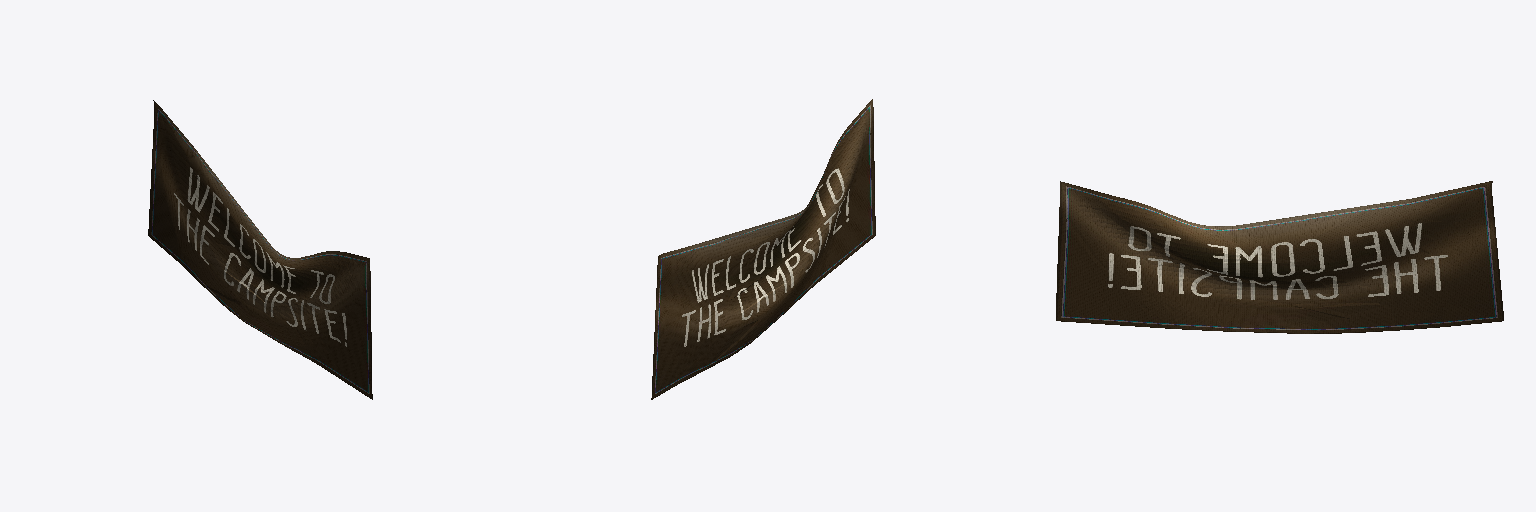
3 renders of one model, left to right at view 1: azimuth 30°, elevation 25°; view 2: azimuth 150°, elevation 25°; view 3: azimuth 270°, elevation 25°, orthographic.
Visible parts, largest first — view 1: pPlane9; view 2: pPlane9; view 3: pPlane9.
Boxes of the visible parts, x1=… form: pPlane9: x1=148, y1=100, x2=372, y2=399; pPlane9: x1=651, y1=99, x2=875, y2=399; pPlane9: x1=1056, y1=181, x2=1503, y2=333.
Size of the model in its own units: 0.3142 by 3.54 by 9.33.
1 materials, 1 textured.